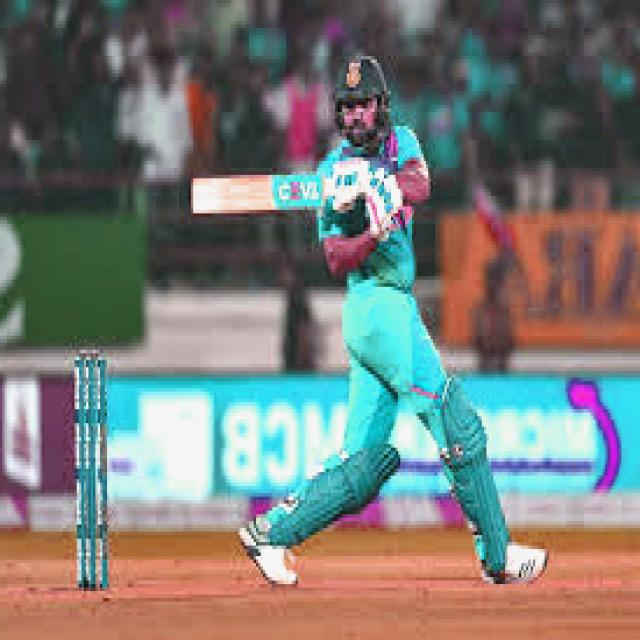toe: (185, 174, 204, 218)
